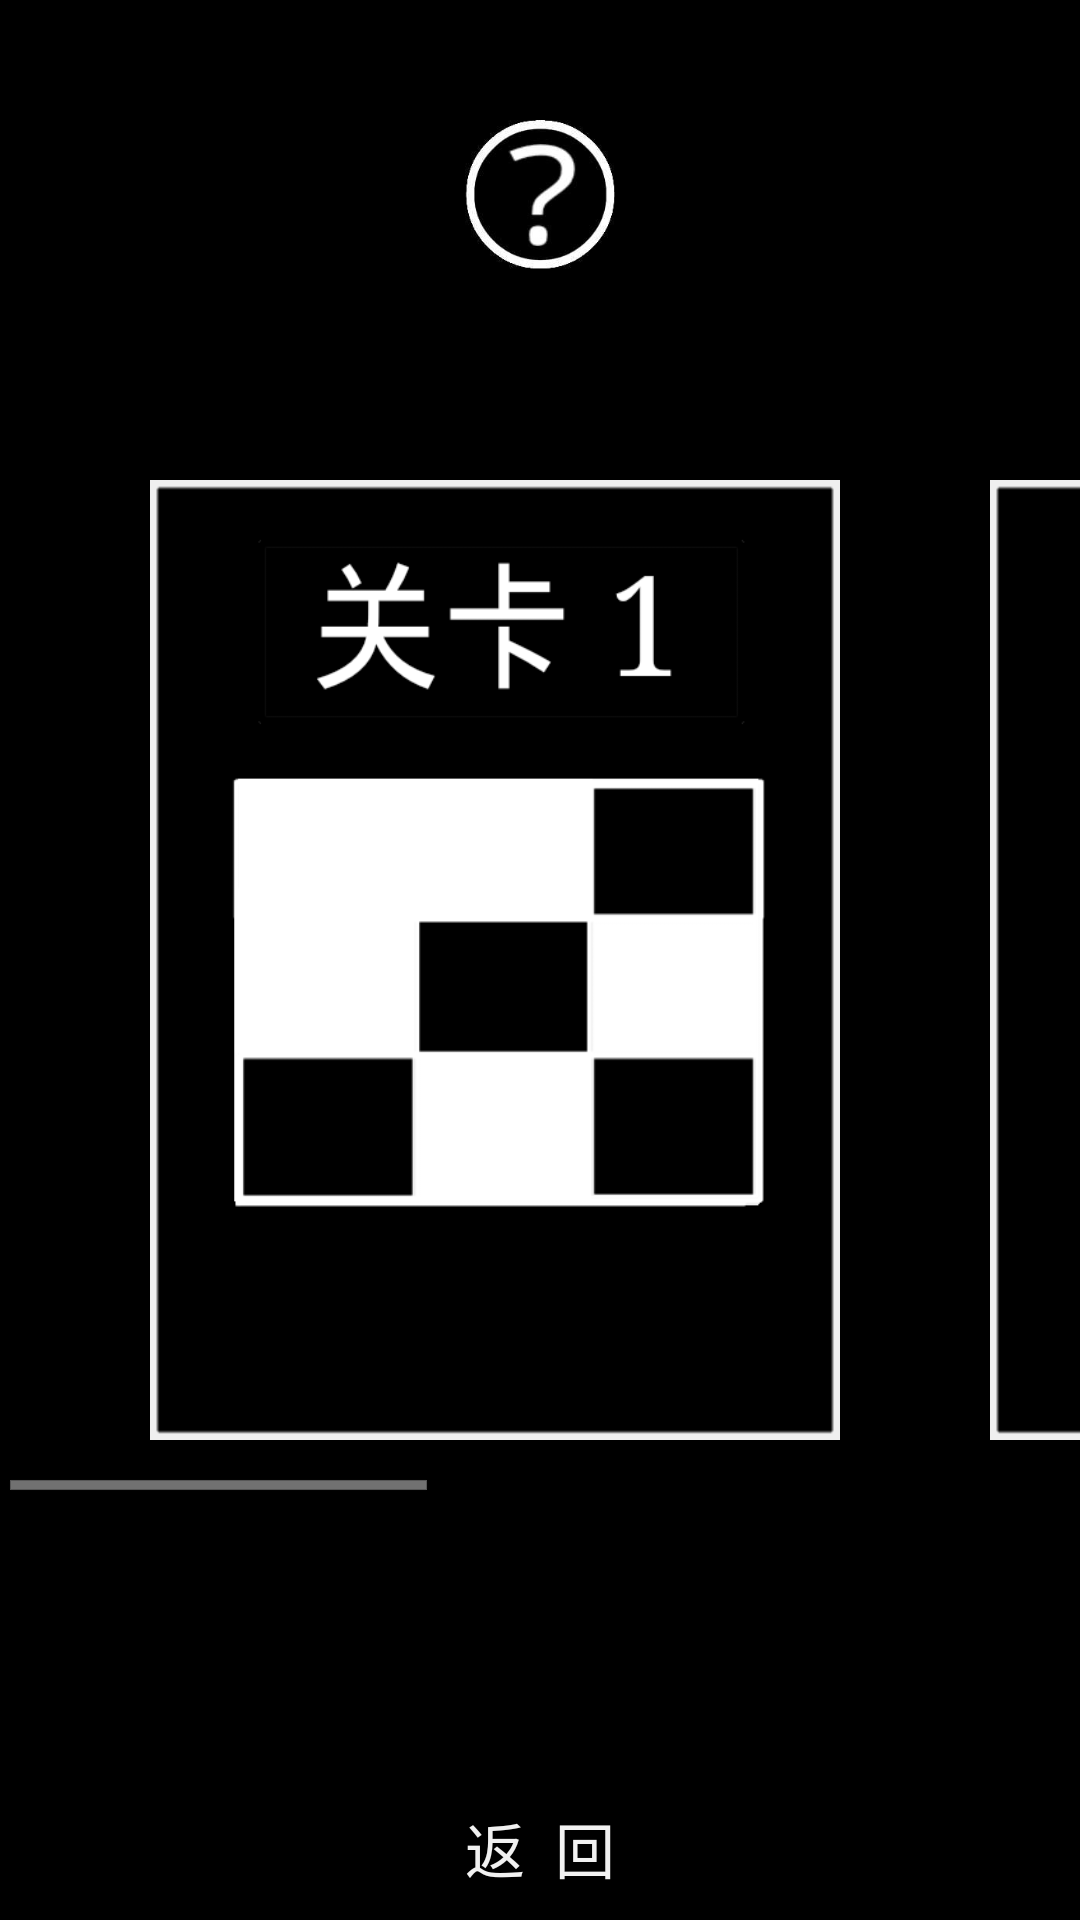

Icon click points for this 1080 × 1920 phone screenshot, format (x=x, y=y):
help: (x=540, y=194)
